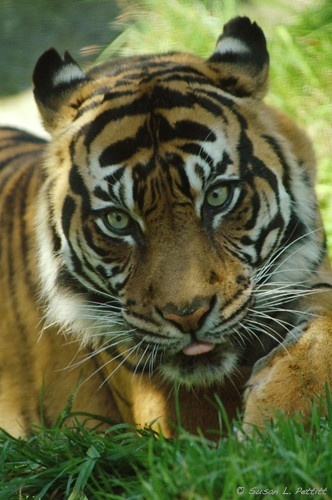tigre: (1, 12, 326, 451)
